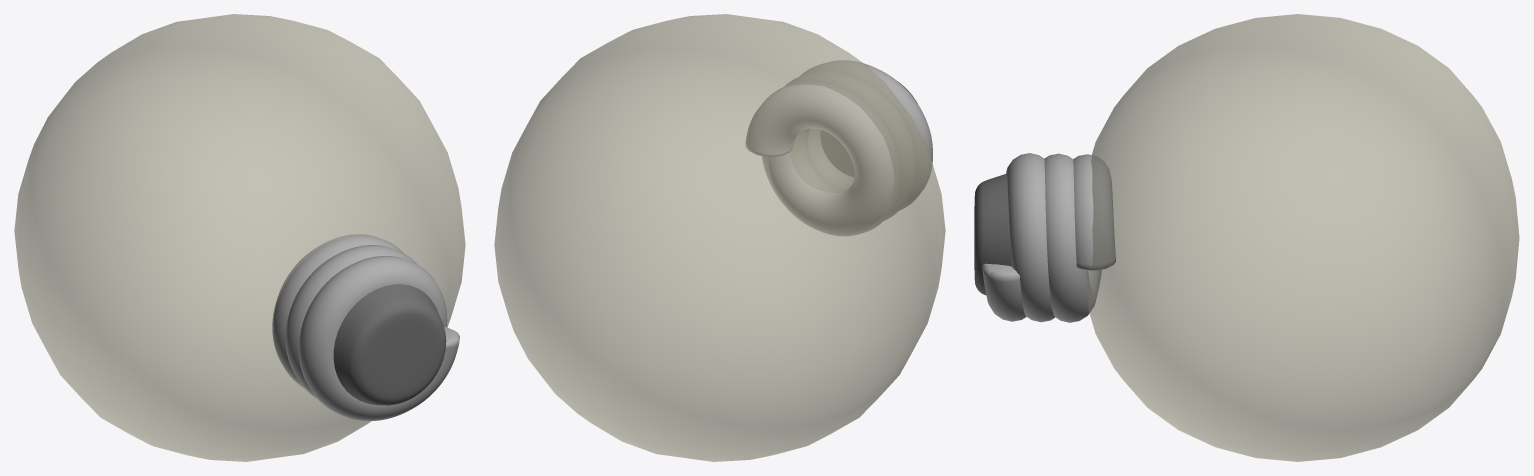
The picture shows the model from 3 angles, left to right: view 1: azimuth 30°, elevation 25°; view 2: azimuth 150°, elevation 25°; view 3: azimuth 270°, elevation 25°; orthographic projection.
Parts seen in each view (by area): view 1: dengpao; view 2: dengpao; view 3: dengpao.
Part boxes in pixels (x1,y1,x2,y2): dengpao: (14, 14, 465, 461); dengpao: (494, 14, 945, 461); dengpao: (974, 14, 1519, 461).
Bounding box in the file's own units: 9.02 × 9.02 × 11.11.
